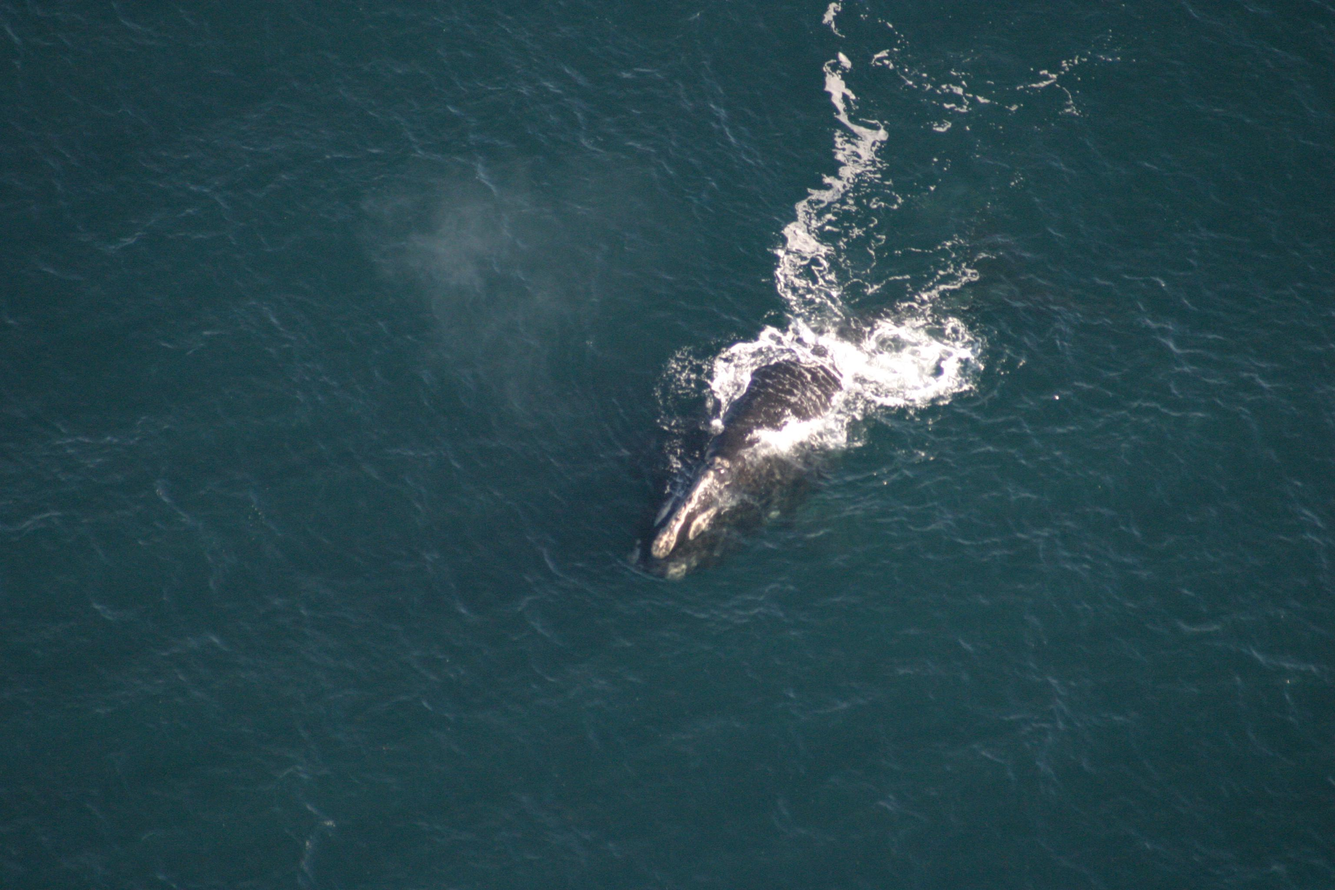whale: (619, 185, 1112, 588)
